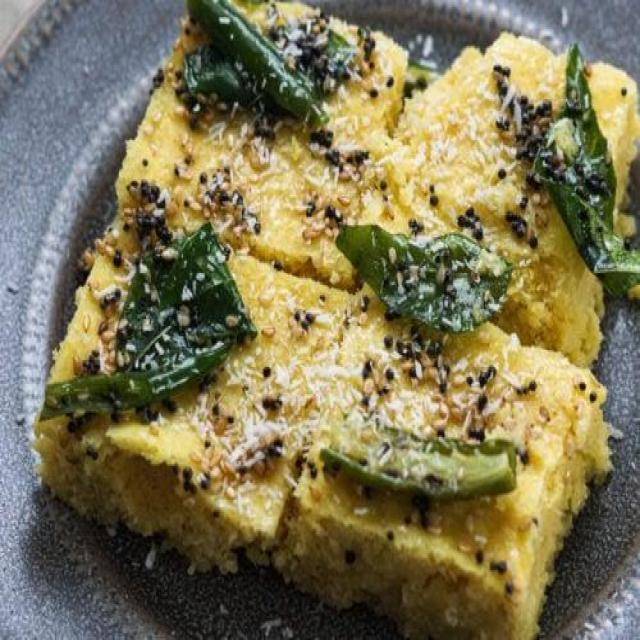dhokla: (37, 0, 629, 640)
